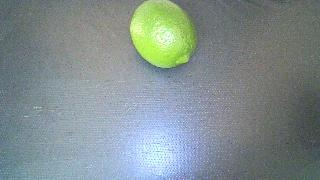EXPORTACION: (130, 0, 197, 68)
